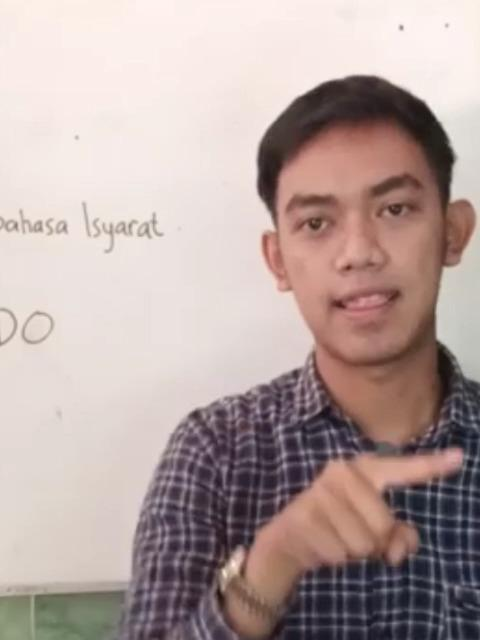Z: (274, 424, 474, 578)
